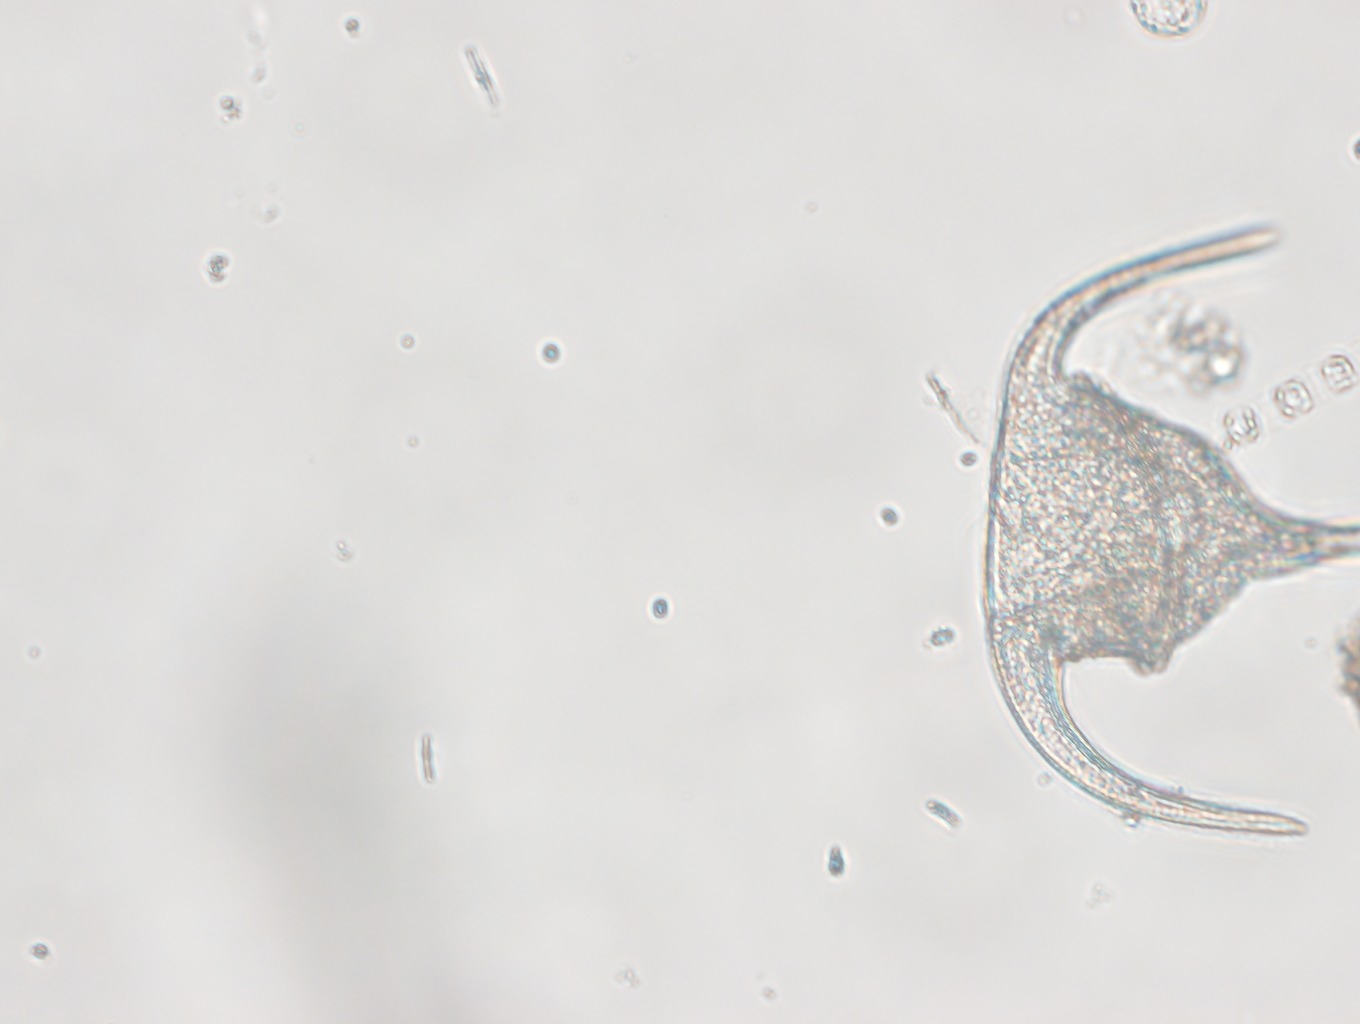ceratium tripos: (979, 218, 1359, 837)
